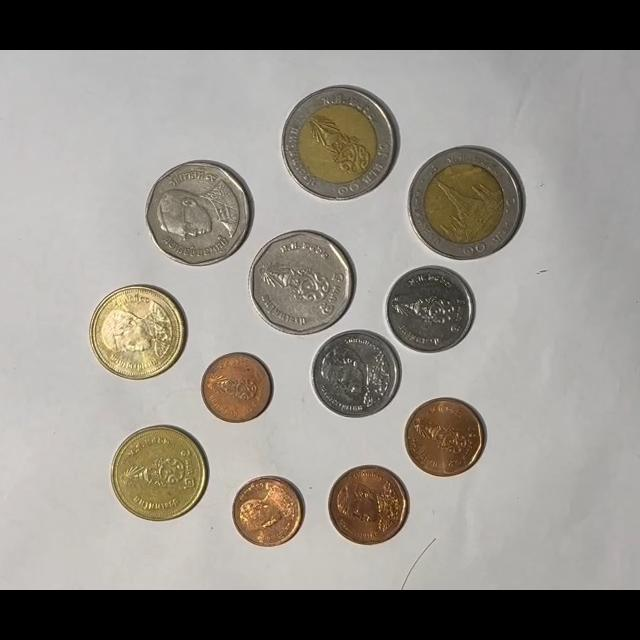1-baht: (385, 265, 475, 354), (311, 330, 401, 419)
10-baht: (281, 85, 399, 202), (408, 146, 524, 260)
2-baht: (111, 425, 209, 522), (89, 285, 184, 381)
25-satang: (232, 475, 305, 548), (200, 352, 272, 423)
5-baht: (249, 229, 355, 336), (145, 161, 253, 266)
50-satang: (328, 465, 409, 546), (404, 397, 486, 477)
